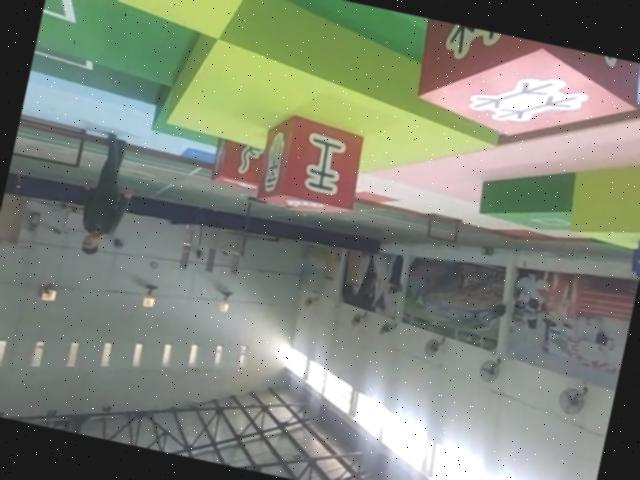R2 Fake: (250, 106, 372, 224)
R2 Real: (400, 16, 640, 164), (206, 131, 268, 194)
